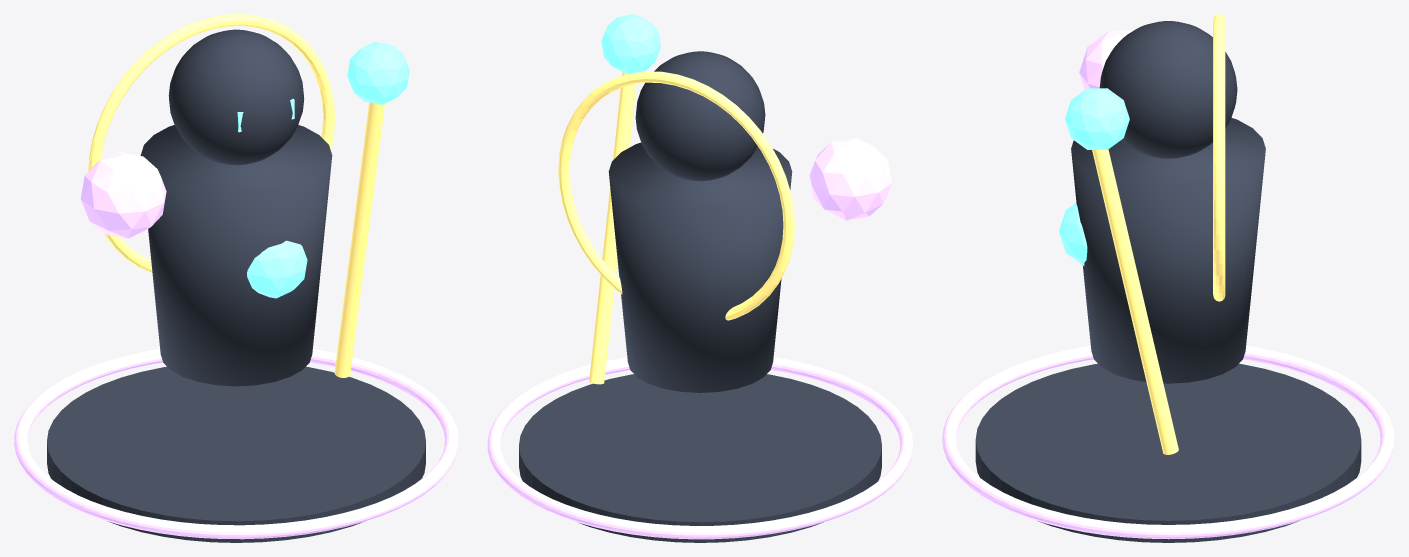
Rendered from leviathan.glb.
3 renders of one model, left to right at view 1: azimuth 30°, elevation 25°; view 2: azimuth 150°, elevation 25°; view 3: azimuth 270°, elevation 25°, orthographic. The views are drawn at different scales.
Parts seen in each view (by area): view 1: AbilityPedestal, AgentTorso, AgentHead, AbilityAuraRing, Pet_LEVIATHAN, SovereignHalo, SignatureWeapon, WeaponApex, AgentCore; view 2: AbilityPedestal, AgentTorso, AgentHead, AbilityAuraRing, SovereignHalo, Pet_LEVIATHAN, SignatureWeapon, WeaponApex; view 3: AbilityPedestal, AgentTorso, AgentHead, AbilityAuraRing, SignatureWeapon, SovereignHalo, WeaponApex, Pet_LEVIATHAN, AgentCore.
Part boxes in pixels (x1,y1,x2,y2): AbilityPedestal: (47,366,425,542); AgentTorso: (140,125,332,386); AgentHead: (168,29,304,165); AbilityAuraRing: (14,349,458,539); Pet_LEVIATHAN: (80,152,166,238); SovereignHalo: (88,14,334,272); SignatureWeapon: (334,102,384,377); WeaponApex: (347,42,409,104); AgentCore: (247,240,307,298); AbilityPedestal: (519,374,881,542); AgentTorso: (608,142,792,392); AgentHead: (635,51,765,181); AbilityAuraRing: (487,357,913,539); SovereignHalo: (558,71,794,320); Pet_LEVIATHAN: (809,137,891,220); SignatureWeapon: (589,72,636,384); WeaponApex: (601,14,660,74); AbilityPedestal: (975,363,1361,542); AgentTorso: (1071,118,1265,383); AgentHead: (1099,21,1237,158); AbilityAuraRing: (942,345,1394,539); SignatureWeapon: (1092,149,1178,454); SovereignHalo: (1213,14,1225,301); WeaponApex: (1065,88,1129,149); Pet_LEVIATHAN: (1079,30,1133,89); AgentCore: (1059,203,1087,265).
Bounding box in the file's own units: 2.23 × 2.36 × 2.23.
